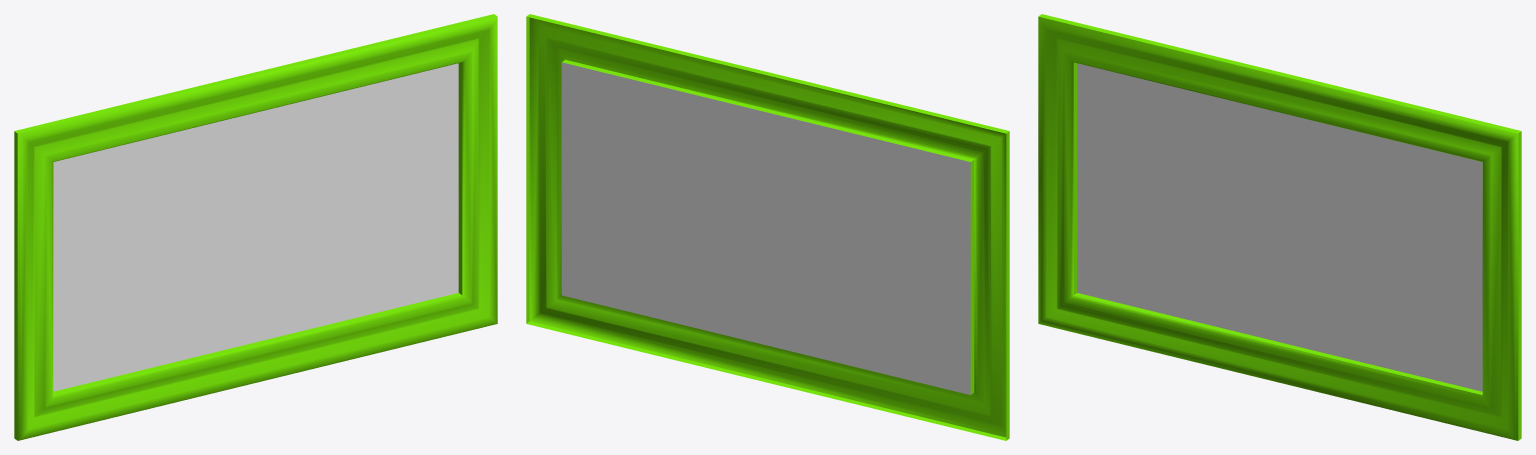
File: painting_12_mesh.fbx
3 renders of one model, left to right at view 1: azimuth 30°, elevation 25°; view 2: azimuth 150°, elevation 25°; view 3: azimuth 330°, elevation 25°, orthographic.
Parts seen in each view (by area): view 1: painting; view 2: painting; view 3: painting.
Part boxes in pixels (box(x1,y1,x2,y2)): painting: box(14, 14, 497, 440); painting: box(526, 14, 1009, 440); painting: box(1038, 14, 1521, 440).
Size of the model in its own units: 1.17 by 0.7175 by 0.02.
